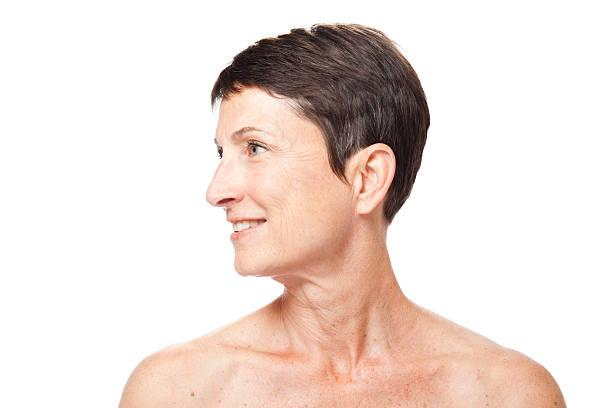Dry-Skin: (267, 128, 334, 248)
